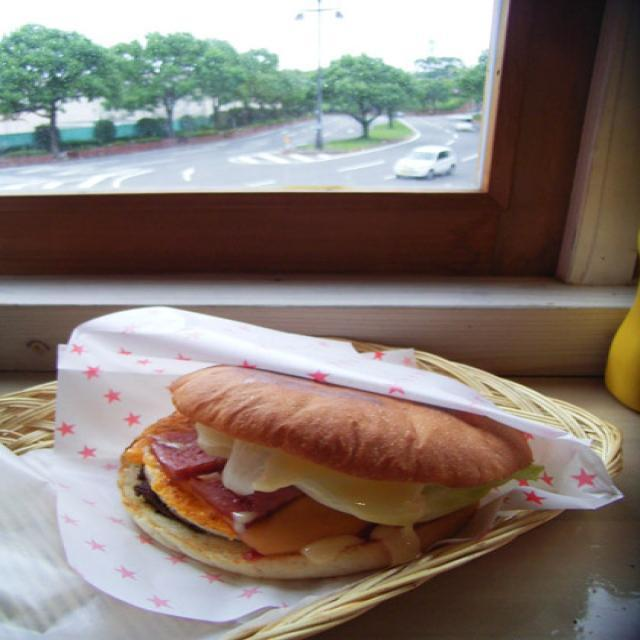Hamburger: (106, 349, 514, 587)
